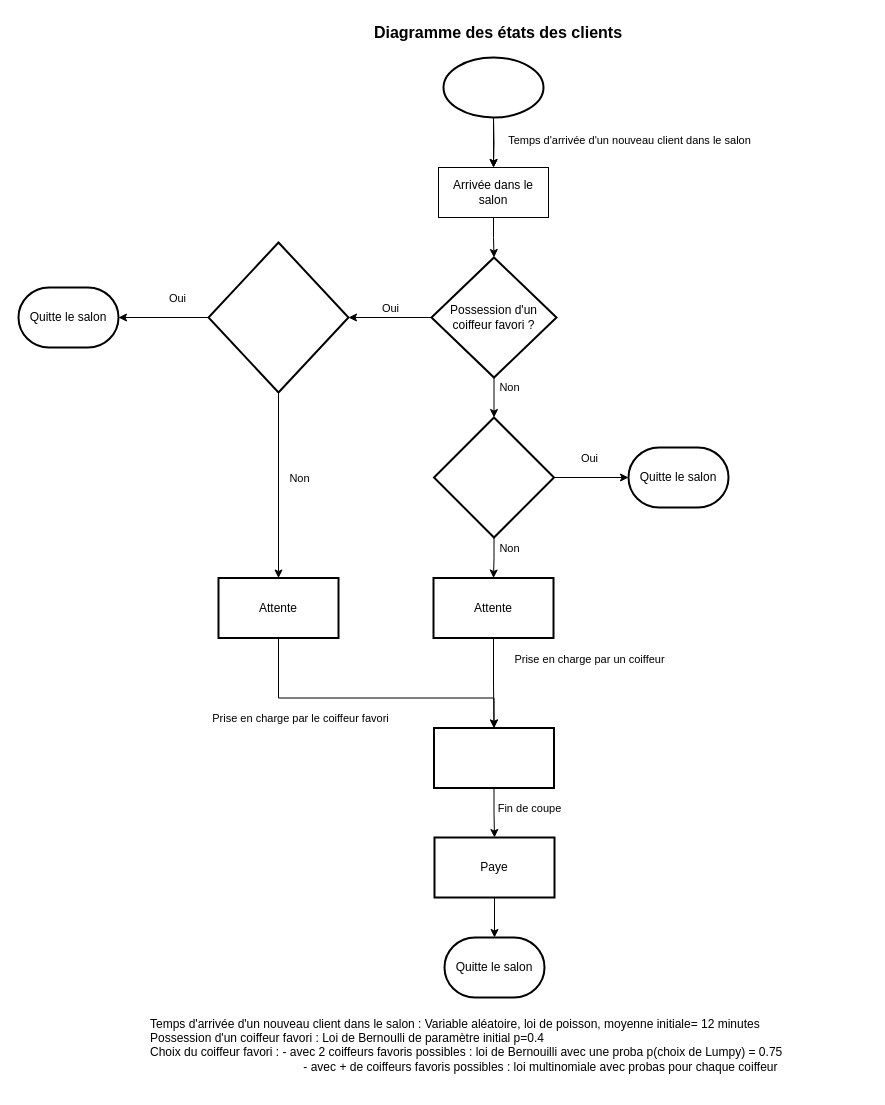
Image size: 885x1105. Some labels were removed from this diagram. The shapes that lost their labels are listed below. From the top down, each one's centre as x and y in pixels, then its label:
the point at 493,87: Hors du système
the point at 278,317: 3+ clients attendent avec le même favori ?
the point at 493,477: 6+ clients dans la file d'attente
the point at 493,757: Coupe des cheveux
